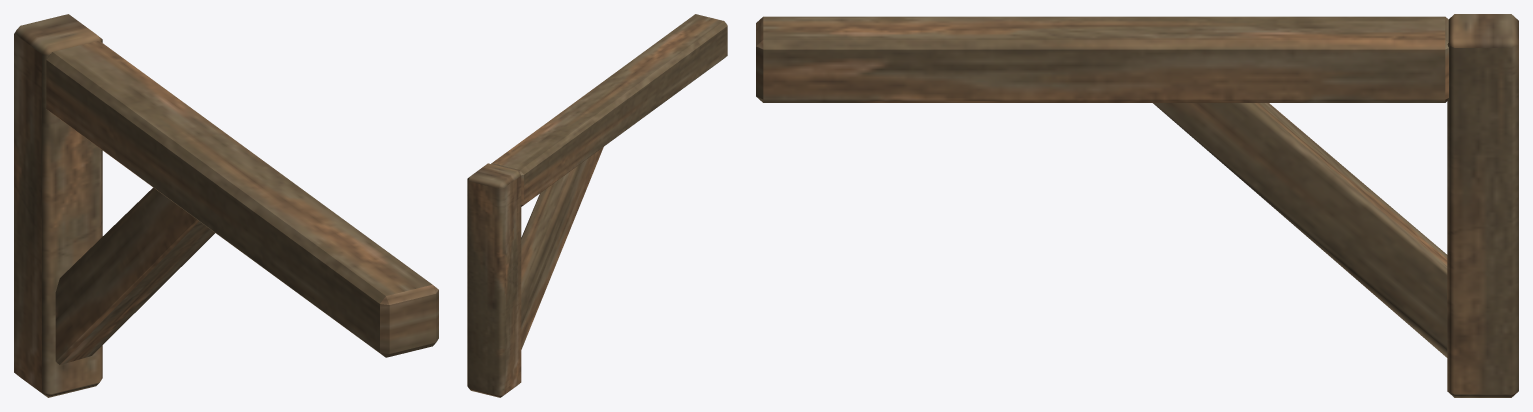
File: SM_wood_support_02.fbx
3 views of the same model, side by side, from view 1: azimuth 30°, elevation 25°; view 2: azimuth 150°, elevation 25°; view 3: azimuth 270°, elevation 25° (orthographic). The views are drawn at different scales.
Visible parts, largest first — view 1: SM_wood_support_02_LOD0; view 2: SM_wood_support_02_LOD0; view 3: SM_wood_support_02_LOD0.
Part boxes in pixels (x1,y1,x2,y2): SM_wood_support_02_LOD0: [14, 14, 438, 397]; SM_wood_support_02_LOD0: [467, 14, 727, 397]; SM_wood_support_02_LOD0: [756, 14, 1518, 397].
Bounding box in the file's own units: 18.09 × 192 × 100.
1 material, 1 textured.
